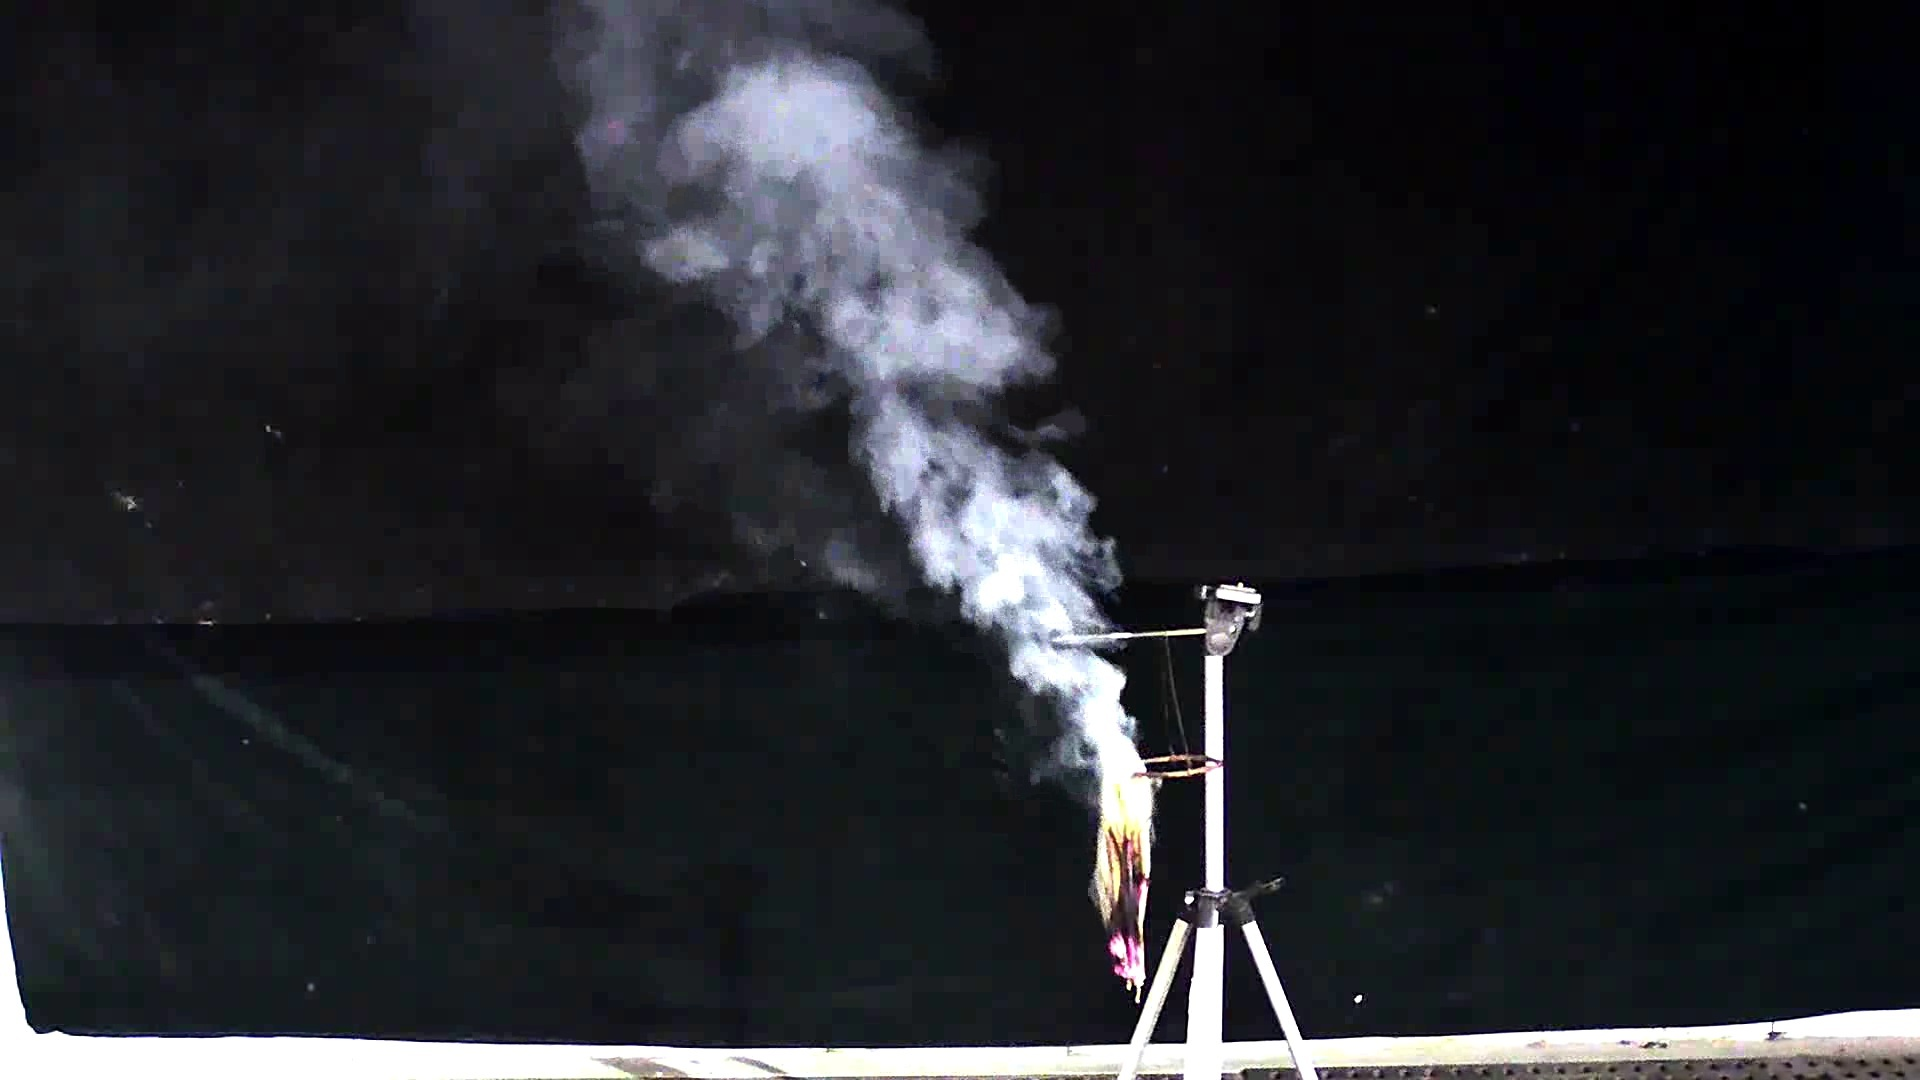smoke: (651, 47, 1150, 717)
